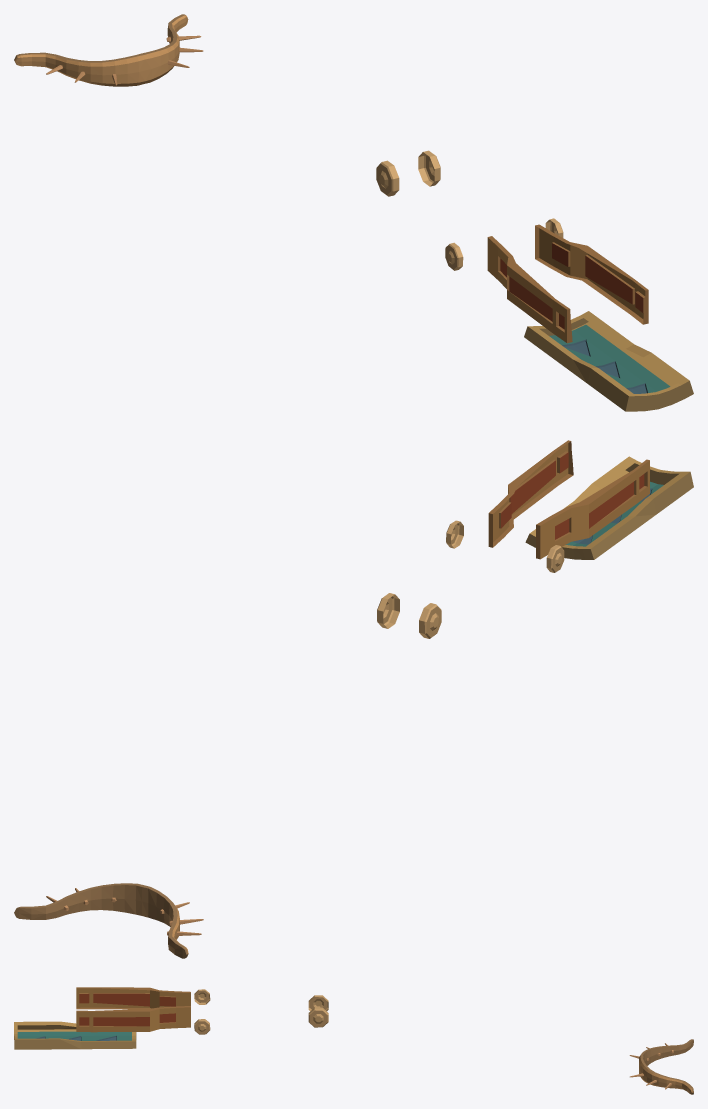
The model's file is repeatingCrossbowAztecHandle.glb.
The picture shows the model from 3 angles, top to bottom: view 1: azimuth 30°, elevation 25°; view 2: azimuth 150°, elevation 25°; view 3: azimuth 270°, elevation 25°; orthographic projection. The views are drawn at different scales.
Visible parts, largest first — view 1: repeatingCrossbowAztecHandle; view 2: repeatingCrossbowAztecHandle; view 3: repeatingCrossbowAztecHandle.
Boxes of the visible parts, bbox=[...] form: repeatingCrossbowAztecHandle: bbox=[14, 14, 693, 411]; repeatingCrossbowAztecHandle: bbox=[14, 440, 693, 958]; repeatingCrossbowAztecHandle: bbox=[14, 987, 693, 1094].
Size of the model in its own units: 0.1752 by 0.1201 by 0.9817.
